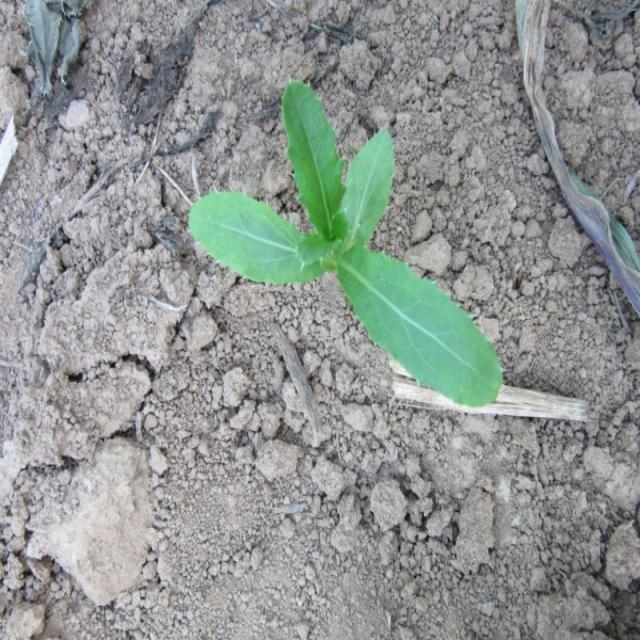cs: (186, 79, 504, 408)
